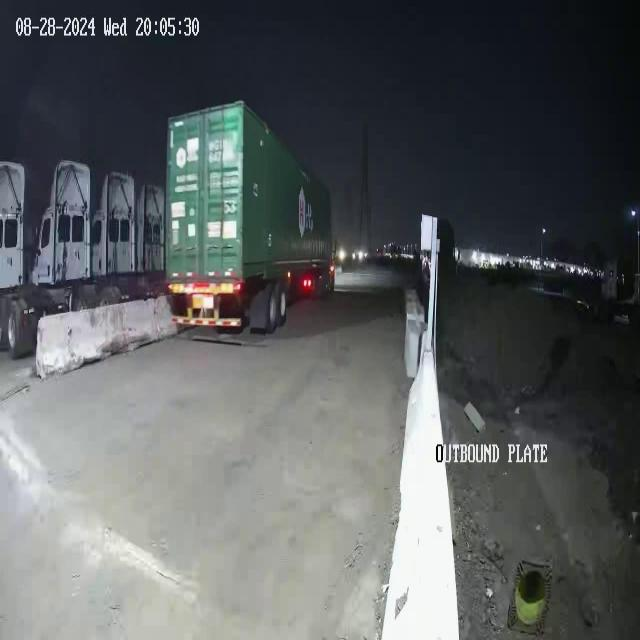TRUCK_CONTAINER: (164, 99, 335, 334)
